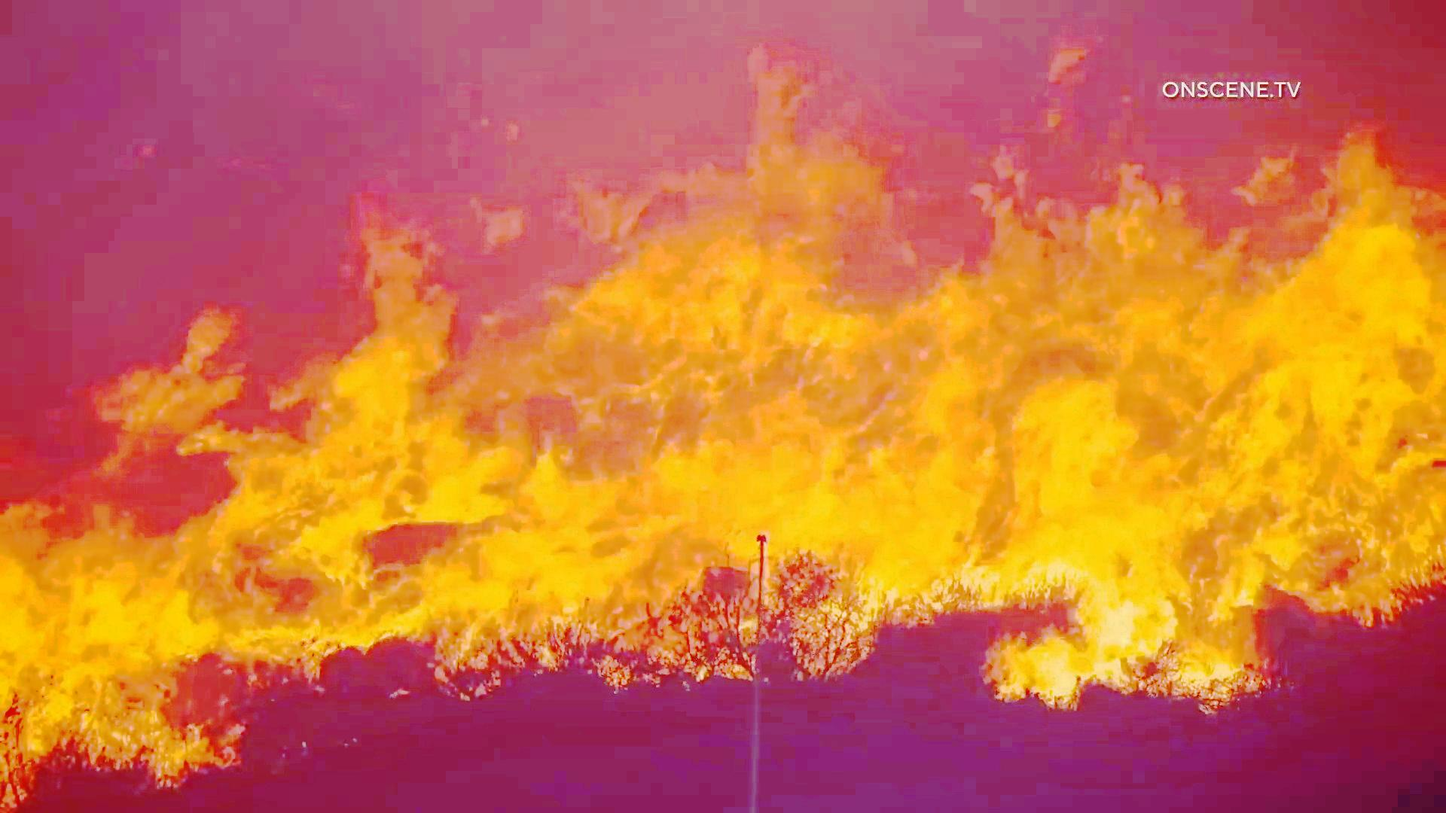fire: (0, 30, 872, 782), (874, 115, 1446, 688)
